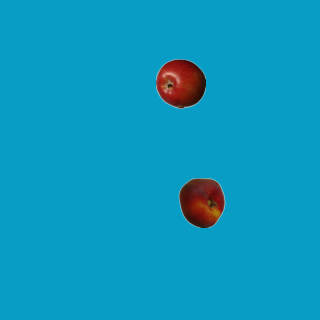Apple Braeburn: (155, 58, 205, 108)
Nectarine Flat: (176, 177, 226, 227)
